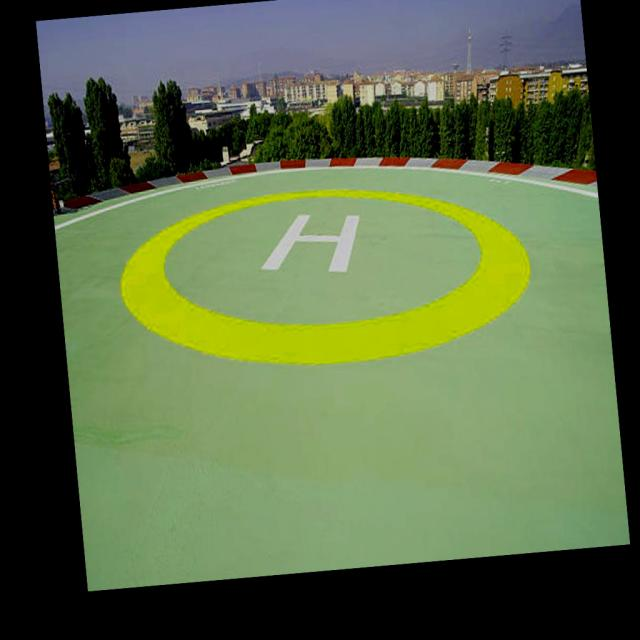helipad: (114, 182, 537, 370)
